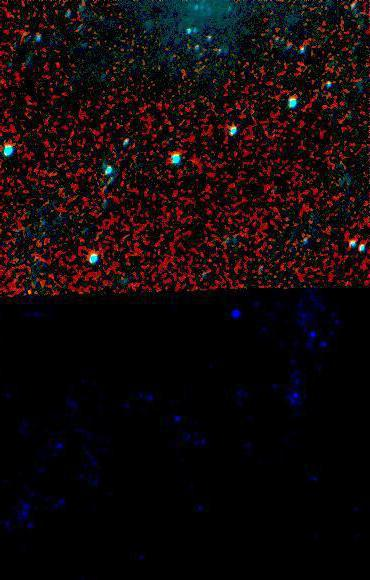star: (42, 48, 72, 78)
